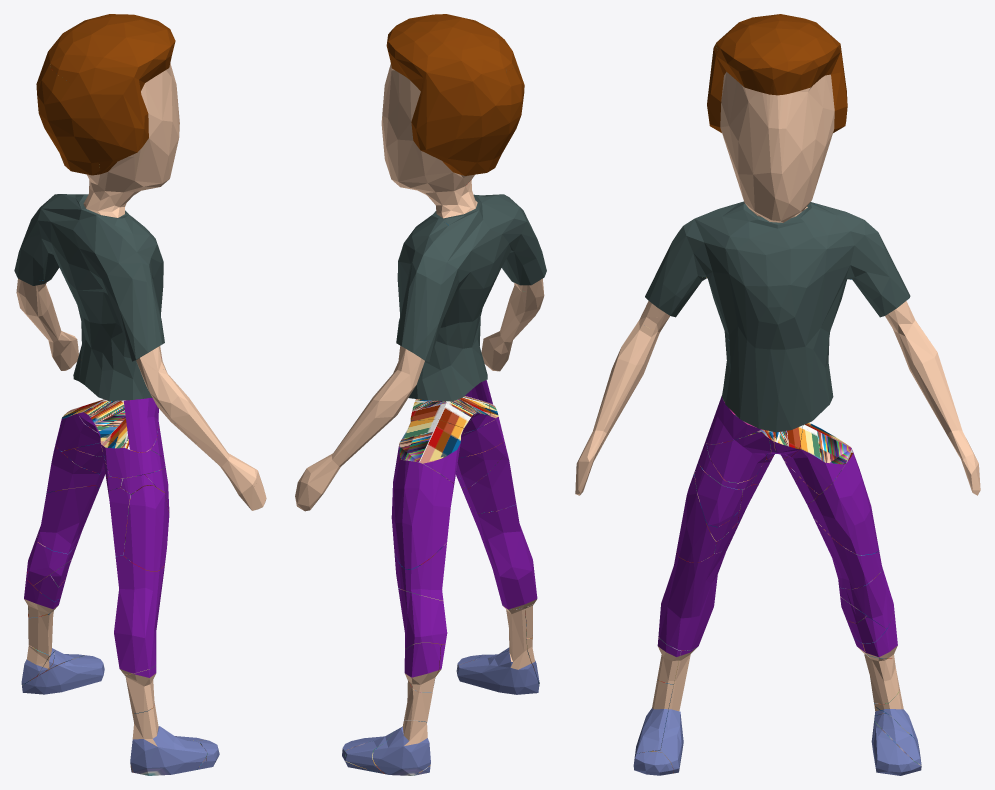
The model's file is Man.fbx.
3 renders of one model, left to right at view 1: azimuth 30°, elevation 25°; view 2: azimuth 150°, elevation 25°; view 3: azimuth 270°, elevation 25°, orthographic. The views are drawn at different scales.
Parts seen in each view (by area): view 1: Man_cell.004, Man_cell.052, Man_cell.054_cell, Man_cell.050, Man_cell.019, Man_cell.017, Man_cell.044, Man_cell.030, Man_cell.058_cell, Man_cell.048_cell.001, Man_cell.039_cell.001, Man_cell.060 (+24 smaller); view 2: Man_cell.004, Man_cell.060, Man_cell.052, Man_cell.014, Man_cell.013_cell.001, Man_cell.051_cell.001, Man_cell.038_cell, Man_cell.023, Man_cell.043, Man_cell.019, Man_cell.048_cell.001, Man_cell_cell.001 (+24 smaller); view 3: Man_cell.004, Man_cell.052, Man_cell.016, Man_cell.060, Man_cell.013_cell.001, Man_cell.058_cell.001, Man_cell.007_cell.001, Man_cell.050, Man_cell.019, Man_cell.010, Man_cell.009_cell, Man_cell.014 (+21 smaller).
Part boxes in pixels (x1=…): Man_cell.004: x1=15, y1=14, x2=265, y2=510; Man_cell.052: x1=114, y1=555, x2=164, y2=674; Man_cell.054_cell: x1=130, y1=703, x2=207, y2=775; Man_cell.050: x1=123, y1=485, x2=169, y2=571; Man_cell.019: x1=37, y1=485, x2=98, y2=553; Man_cell.017: x1=71, y1=67, x2=162, y2=155; Man_cell.044: x1=22, y1=655, x2=104, y2=694; Man_cell.030: x1=123, y1=386, x2=158, y2=452; Man_cell.058_cell: x1=101, y1=441, x2=165, y2=478; Man_cell.048_cell.001: x1=36, y1=71, x2=101, y2=175; Man_cell.039_cell.001: x1=119, y1=234, x2=159, y2=304; Man_cell.060: x1=46, y1=432, x2=105, y2=492; Man_cell.004: x1=305, y1=14, x2=546, y2=509; Man_cell.060: x1=391, y1=460, x2=454, y2=569; Man_cell.052: x1=468, y1=504, x2=537, y2=609; Man_cell.014: x1=457, y1=603, x2=539, y2=694; Man_cell.013_cell.001: x1=396, y1=419, x2=463, y2=483; Man_cell.051_cell.001: x1=372, y1=720, x2=430, y2=775; Man_cell.038_cell: x1=398, y1=588, x2=447, y2=649; Man_cell.023: x1=405, y1=114, x2=491, y2=181; Man_cell.043: x1=462, y1=450, x2=516, y2=513; Man_cell.019: x1=394, y1=543, x2=446, y2=600; Man_cell.048_cell.001: x1=457, y1=93, x2=522, y2=168; Man_cell_cell.001: x1=412, y1=316, x2=475, y2=395; Man_cell.004: x1=575, y1=14, x2=975, y2=495; Man_cell.052: x1=658, y1=548, x2=727, y2=650; Man_cell.016: x1=709, y1=271, x2=820, y2=374; Man_cell.060: x1=807, y1=448, x2=878, y2=555; Man_cell.013_cell.001: x1=783, y1=423, x2=851, y2=494; Man_cell.058_cell.001: x1=706, y1=429, x2=770, y2=482; Man_cell.007_cell.001: x1=764, y1=119, x2=830, y2=199; Man_cell.050: x1=676, y1=470, x2=716, y2=562; Man_cell.019: x1=813, y1=518, x2=882, y2=589; Man_cell.010: x1=724, y1=204, x2=803, y2=273; Man_cell.009_cell: x1=695, y1=461, x2=742, y2=526; Man_cell.014: x1=660, y1=647, x2=696, y2=773.
Size of the model in its own units: 100 by 494 by 248.
